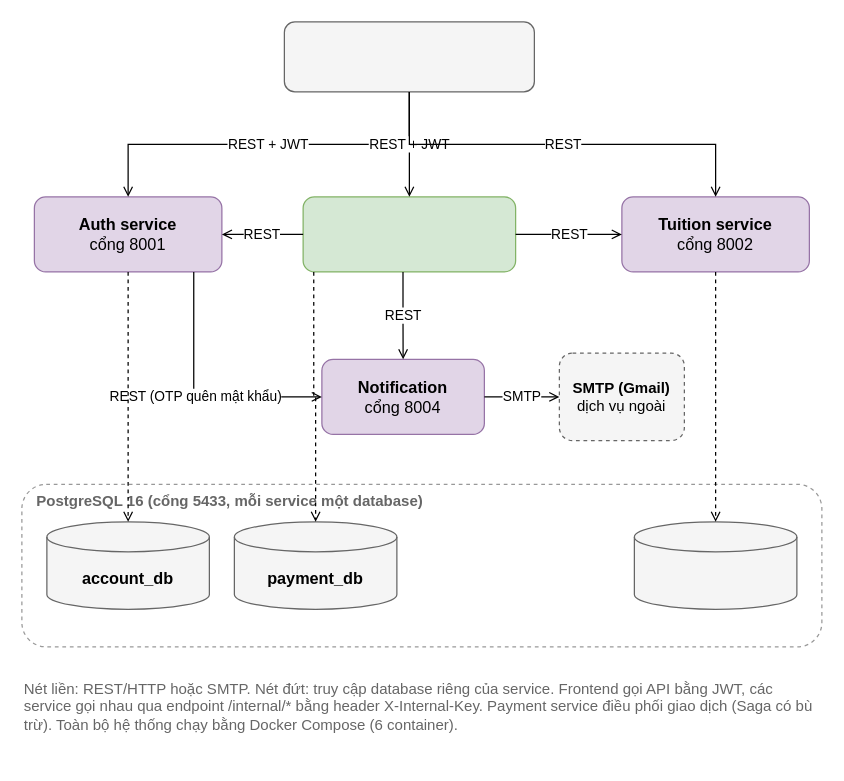
Some shapes in this 844 by 781 pixel diagram are drawn without their labels. Each missing label, with the centre of its shape:
Frontend (React + Nginx) cổng 5173: pixel 408 56
Payment service cổng 8003: pixel 409 234
tuition_db: pixel 715 565
